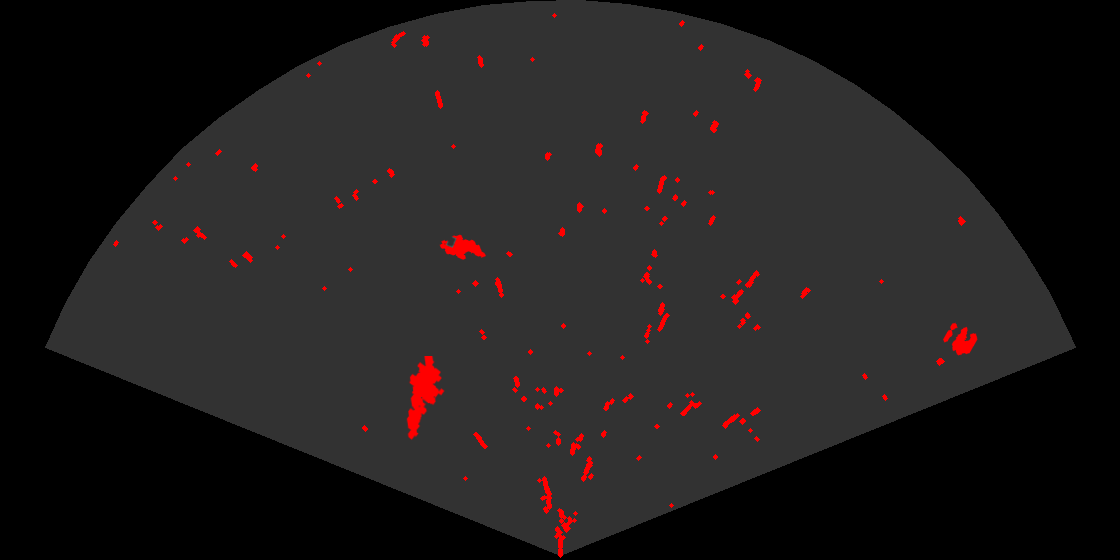AUV: (438, 233, 488, 261)
ball: (941, 321, 979, 357)
frogman: (405, 356, 446, 441)
